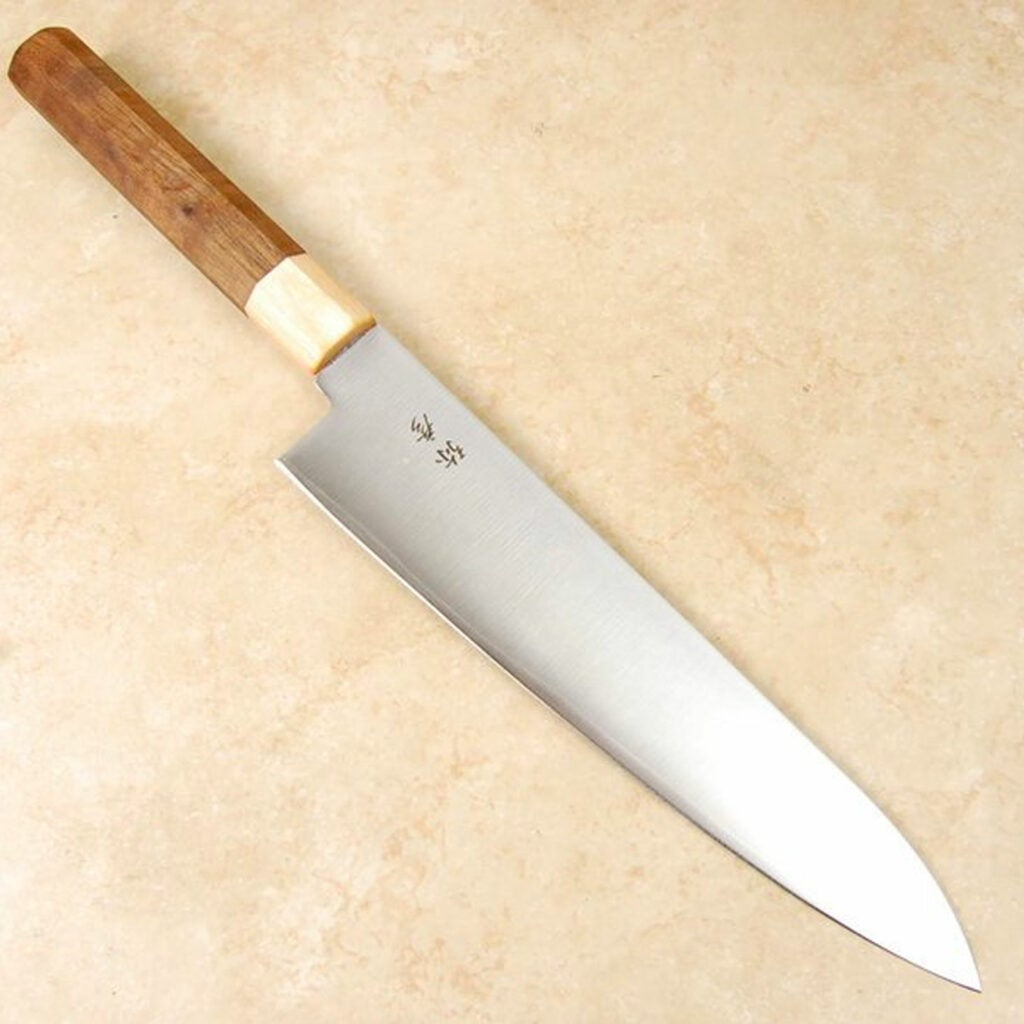knife: (15, 15, 993, 1004)
